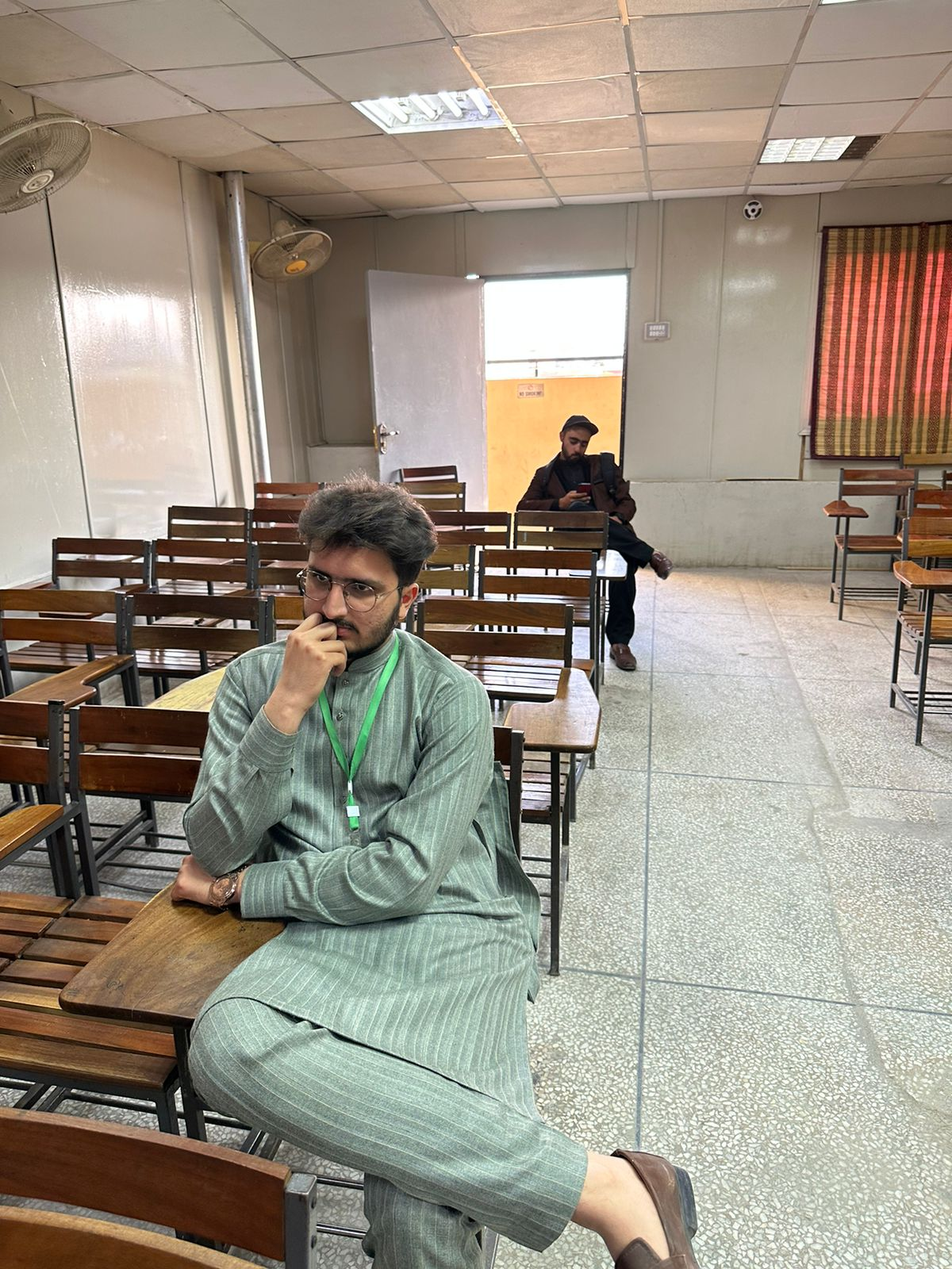non-cheating: (292, 475, 438, 654)
phone: (560, 482, 593, 509)
